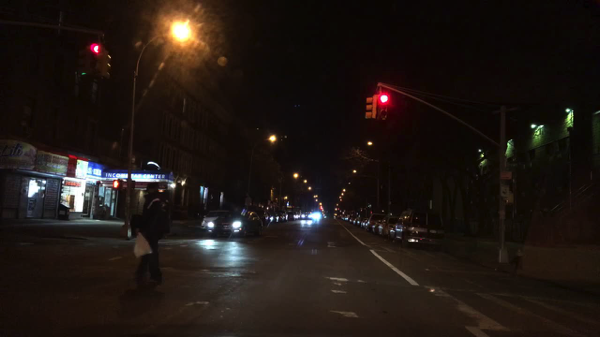car: (391, 207, 447, 249), (207, 207, 263, 238), (198, 209, 230, 235), (244, 205, 271, 228), (378, 217, 401, 237), (364, 213, 384, 231), (286, 211, 301, 221), (371, 220, 381, 235), (267, 212, 279, 223), (301, 212, 314, 221), (278, 213, 289, 222), (346, 214, 355, 223), (353, 215, 360, 226), (340, 214, 348, 223), (359, 219, 367, 228), (333, 213, 344, 219), (315, 214, 322, 219)
person: (127, 181, 174, 287)
traffic light: (90, 44, 103, 74), (76, 47, 89, 77), (377, 93, 390, 120), (363, 95, 375, 119), (104, 51, 113, 79), (112, 181, 121, 189), (132, 181, 137, 189), (319, 205, 323, 210)
traffic sign: (499, 185, 508, 198), (499, 171, 512, 180)
